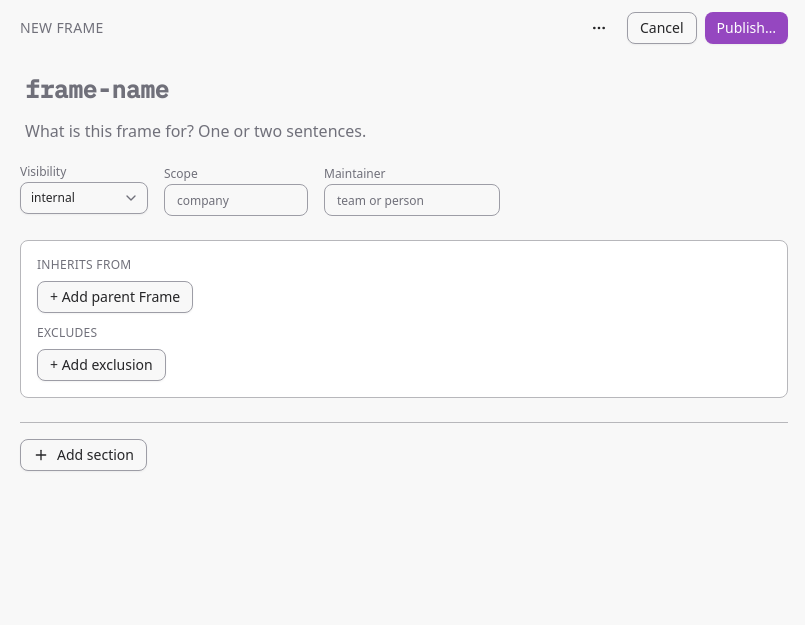
it: starts with no content sections and adds one from the menu
Expected: the heading "Rules" is not shown
Click the button "Add section" at (83, 455), box x1=20 y1=439 x2=147 y2=471
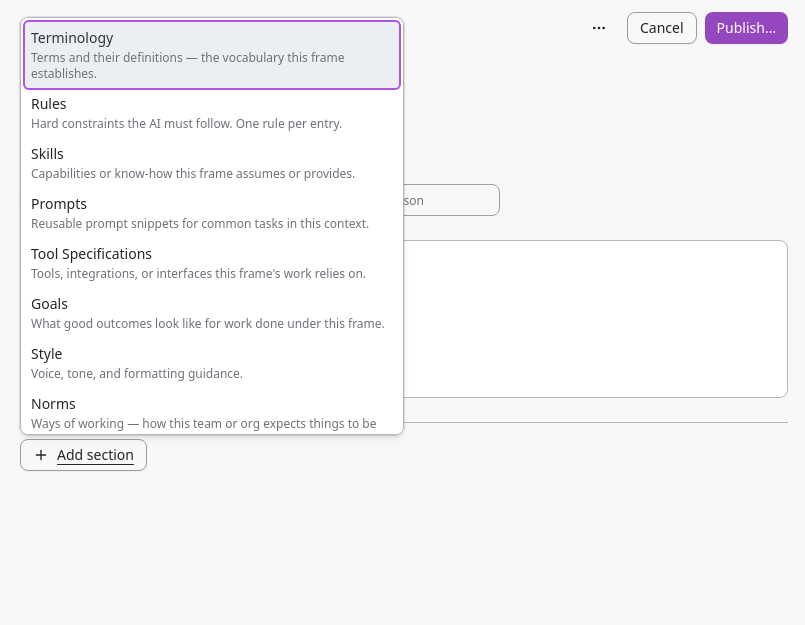
Click the menu item "Rules" at (187, 113), box x1=31 y1=94 x2=342 y2=132
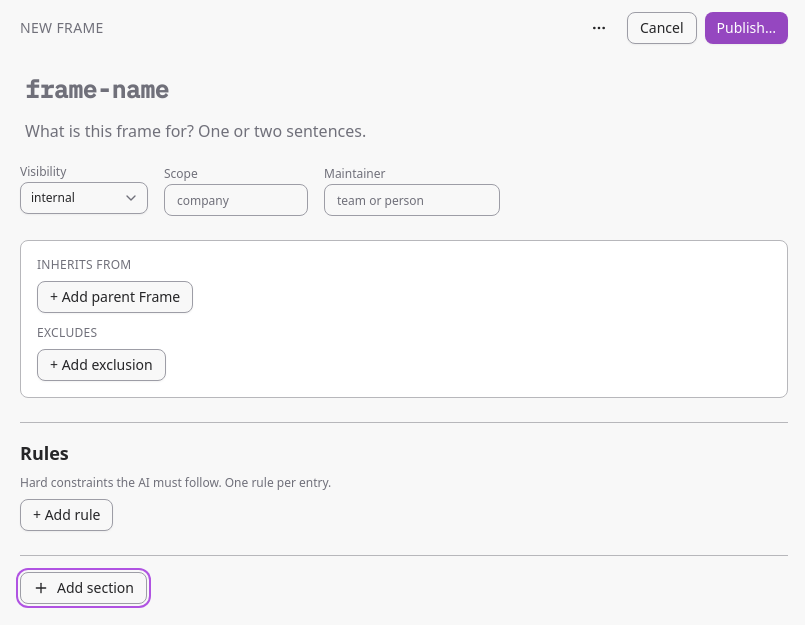
Result: the heading "Rules" is shown at x1=20 y1=439 x2=69 y2=467
Result: the button "+ Add rule" is shown at x1=20 y1=499 x2=113 y2=531
